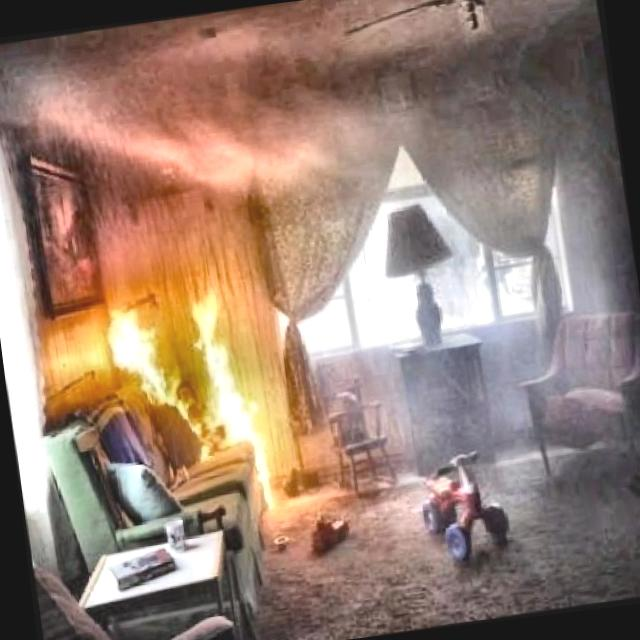fire: (78, 219, 308, 504)
